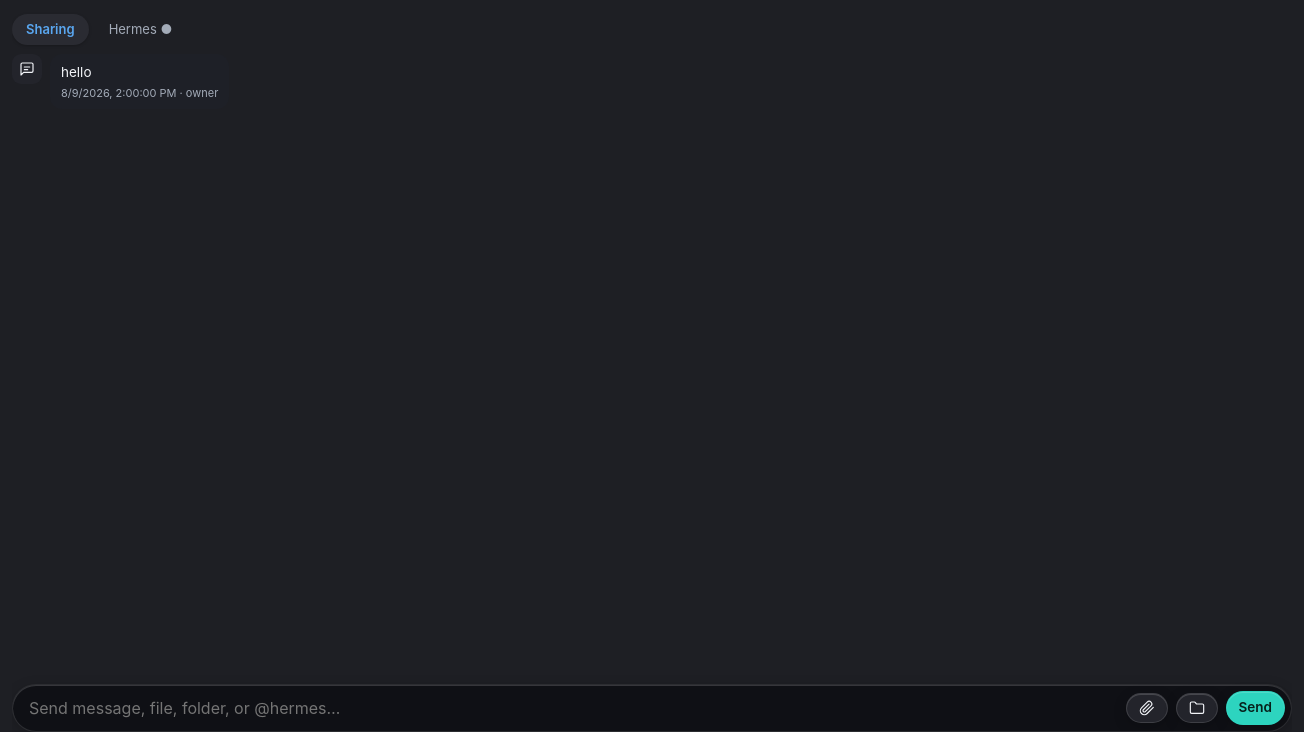
Test: ChatPanel › separates file messages (Sharing tab) from the bot thread (Hermes tab)
The width and height of the screenshot is (1304, 732).
Expected: the text "hello" is shown, [61,64,92,80]
Expected: the text "hi bot" is not shown
// Switch to Hermes → the bot thread shows, the file entry is hidden.
Step 1. Click the button "Hermes ●" → (140, 30), box [95,14,186,45]
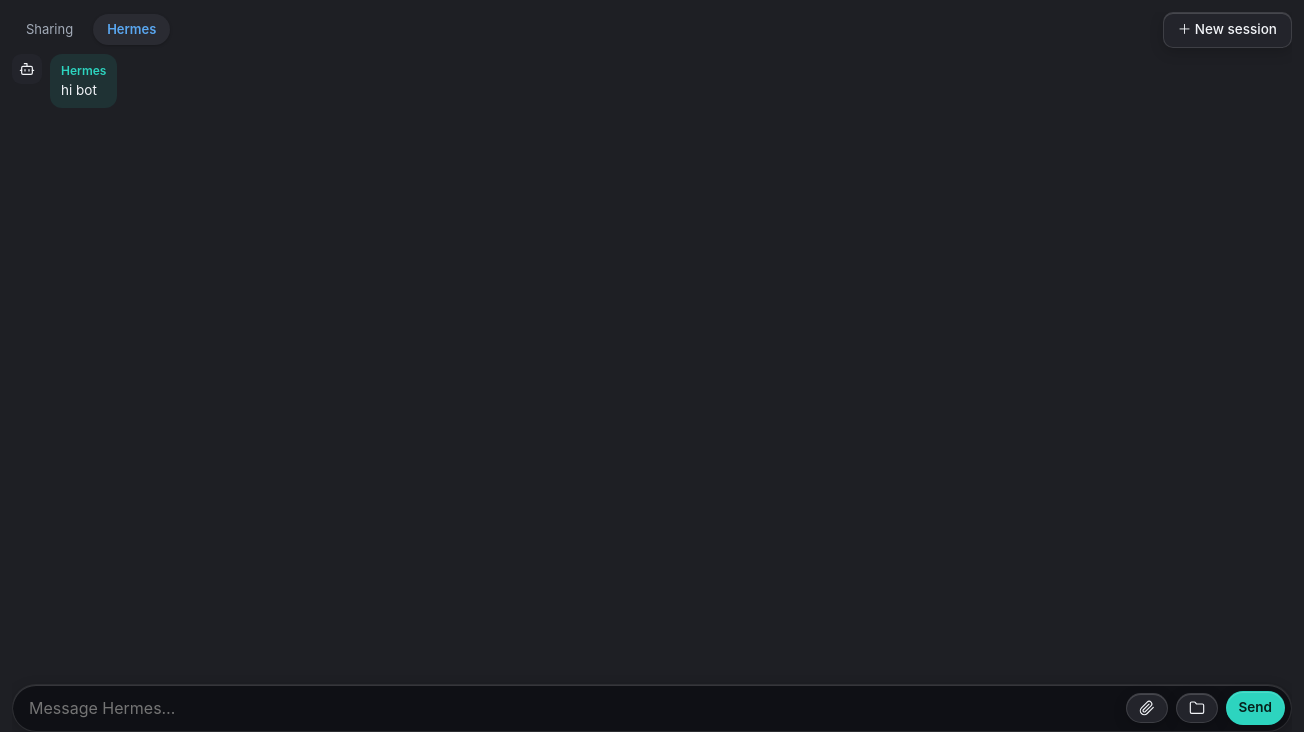
Result: the text "hi bot" is shown at [61,82,97,98]
Result: the text "hello" is gone
